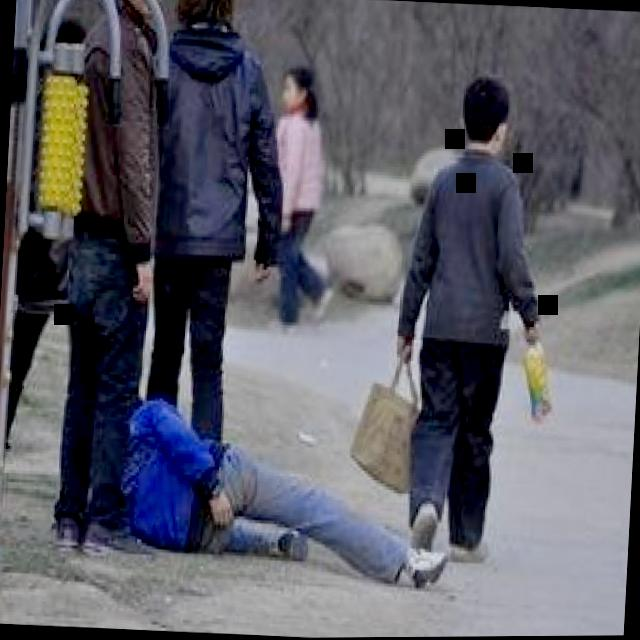Fall-Detected: (110, 376, 463, 589)
